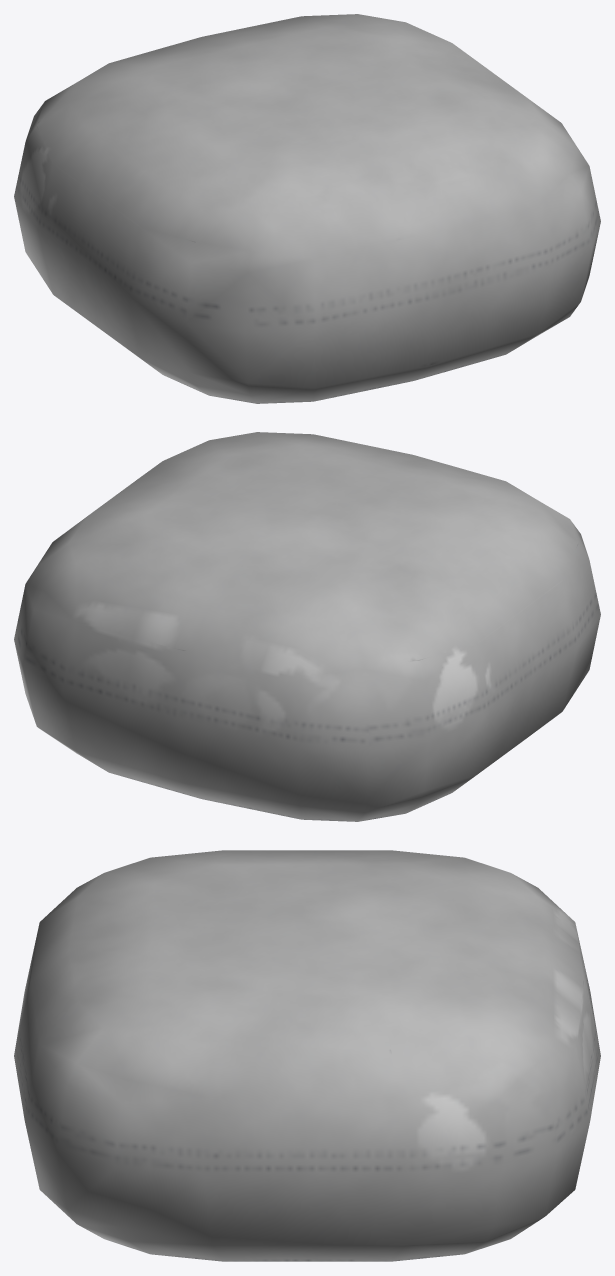
Rendered from Head_C1.fbx.
The picture shows the model from 3 angles, top to bottom: view 1: azimuth 30°, elevation 25°; view 2: azimuth 150°, elevation 25°; view 3: azimuth 270°, elevation 25°; orthographic projection. The views are drawn at different scales.
Visible parts, largest first — view 1: Civ_PeloCorto_Head_C1; view 2: Civ_PeloCorto_Head_C1; view 3: Civ_PeloCorto_Head_C1.
Part boxes in pixels (x1=…): Civ_PeloCorto_Head_C1: x1=14, y1=14, x2=600, y2=403; Civ_PeloCorto_Head_C1: x1=14, y1=432, x2=600, y2=821; Civ_PeloCorto_Head_C1: x1=14, y1=850, x2=600, y2=1261.
Bounding box in the file's own units: 1.36 × 0.6748 × 1.37.
